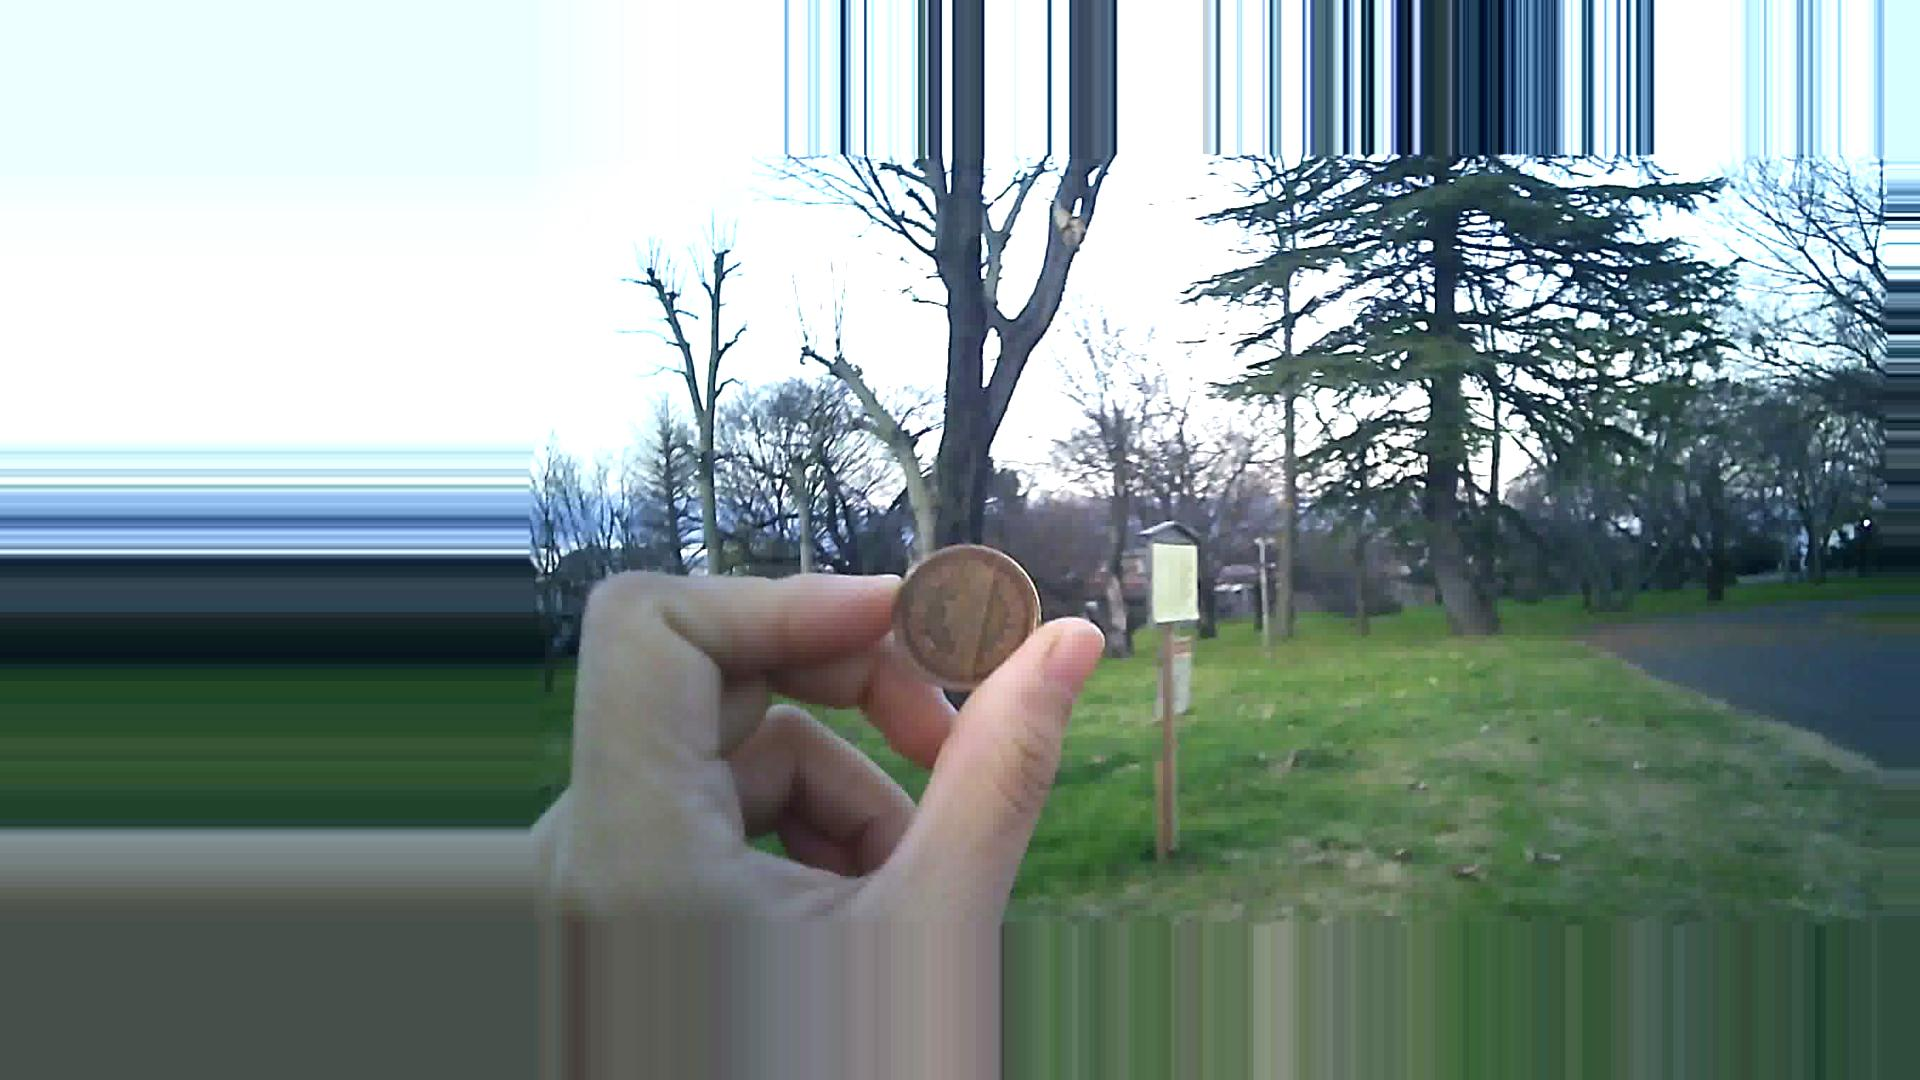10 Yen: (894, 539, 1036, 680)
